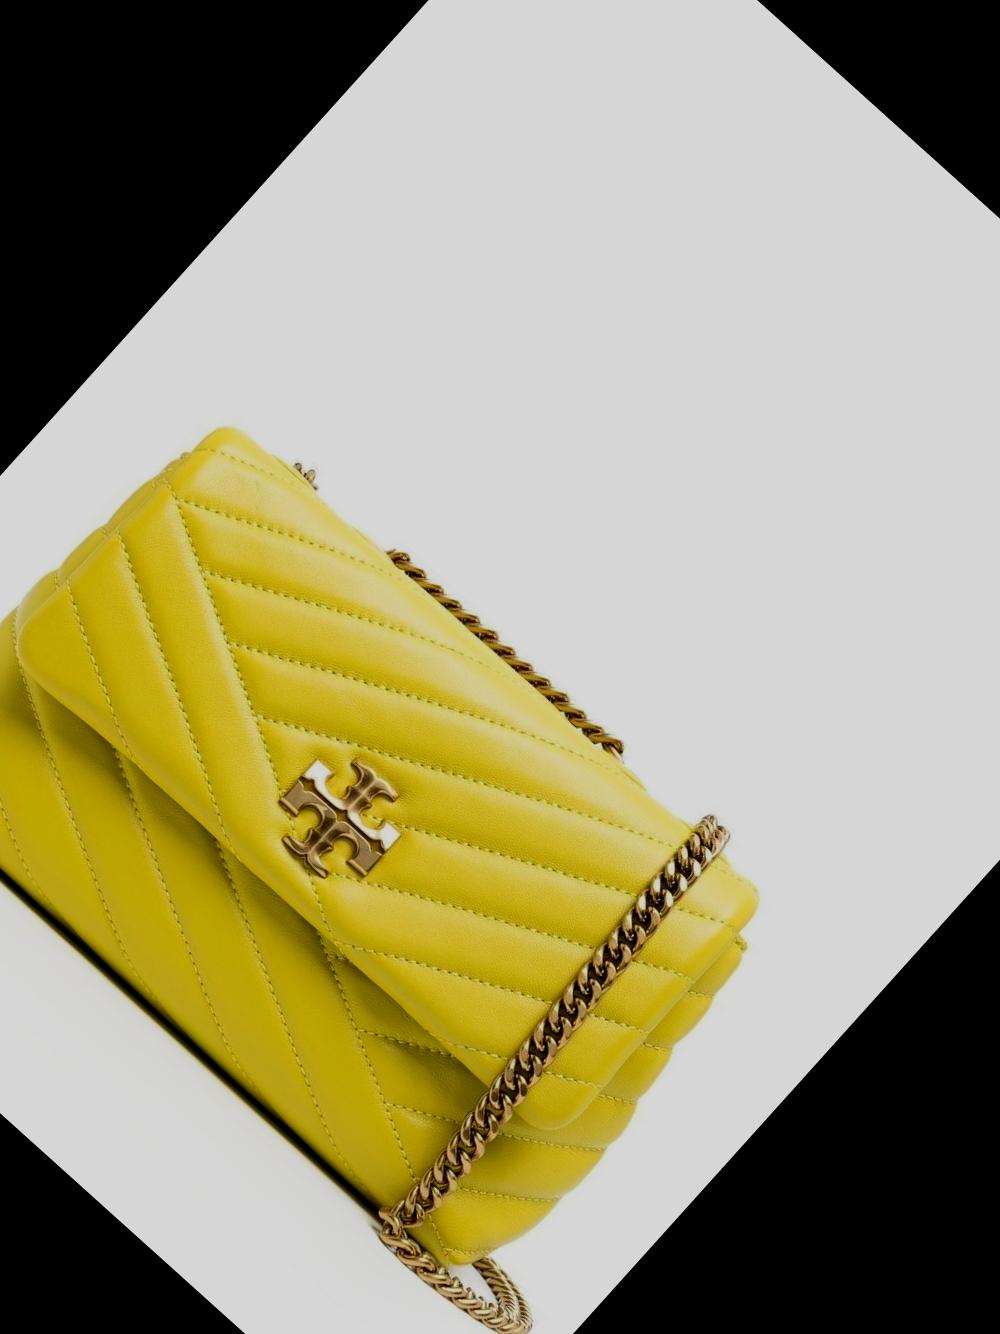TORY-BURCH: (258, 735, 422, 899)
